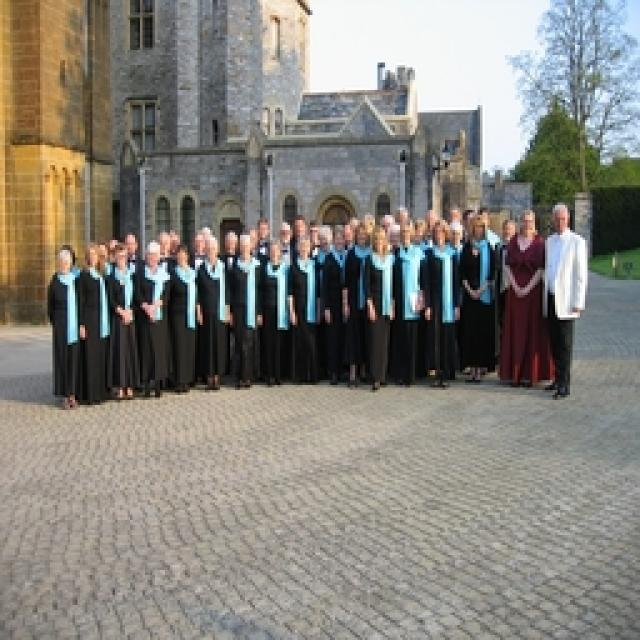Abbey: (1, 8, 525, 230)
